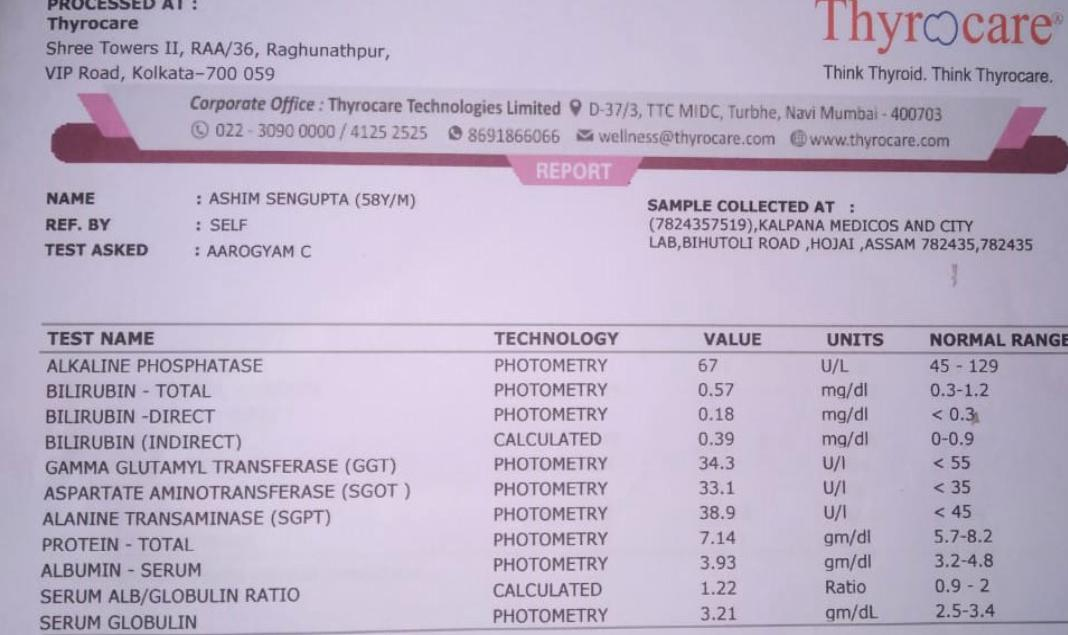Reference Range: (921, 351, 1016, 625)
Test Name: (34, 352, 418, 635)
Units: (811, 351, 892, 627)
Value: (690, 351, 757, 628)
